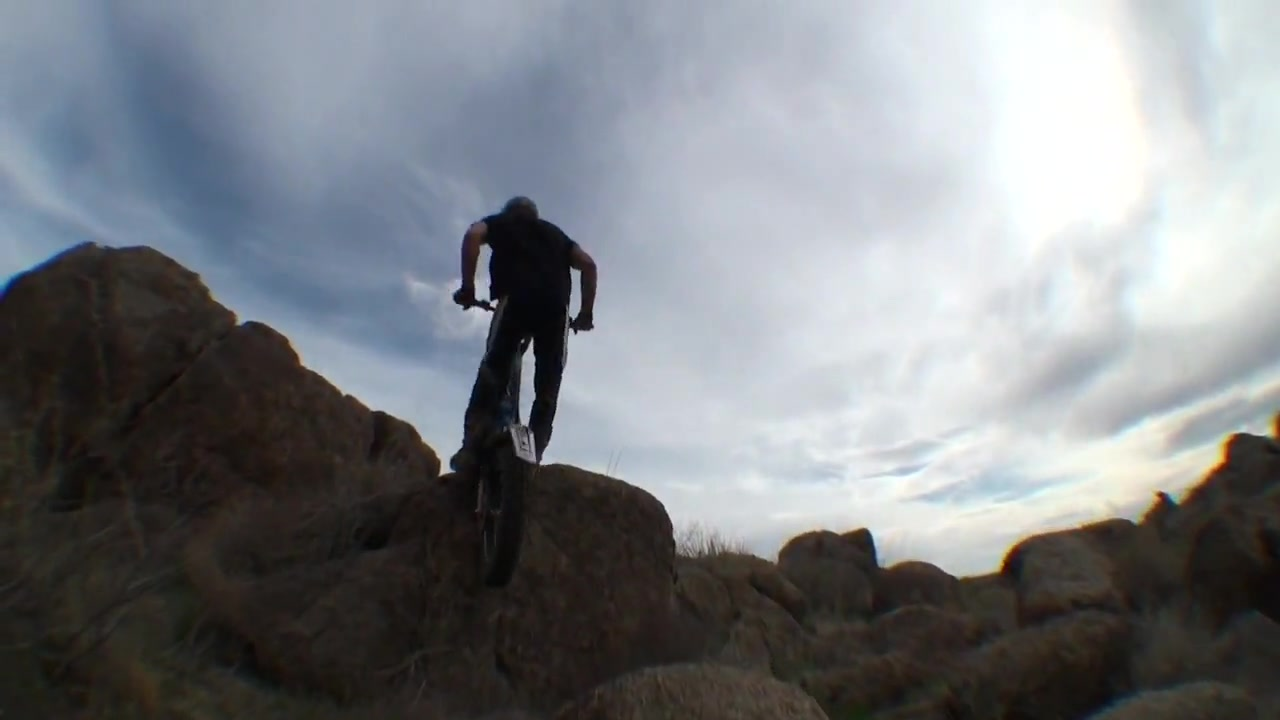motorbike: (446, 284, 588, 583)
